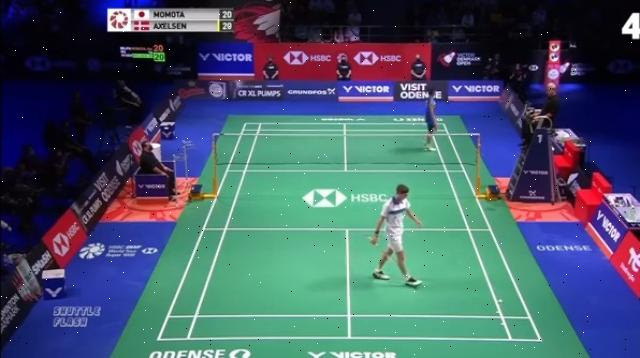Shuttlecock: (494, 298, 504, 306)
